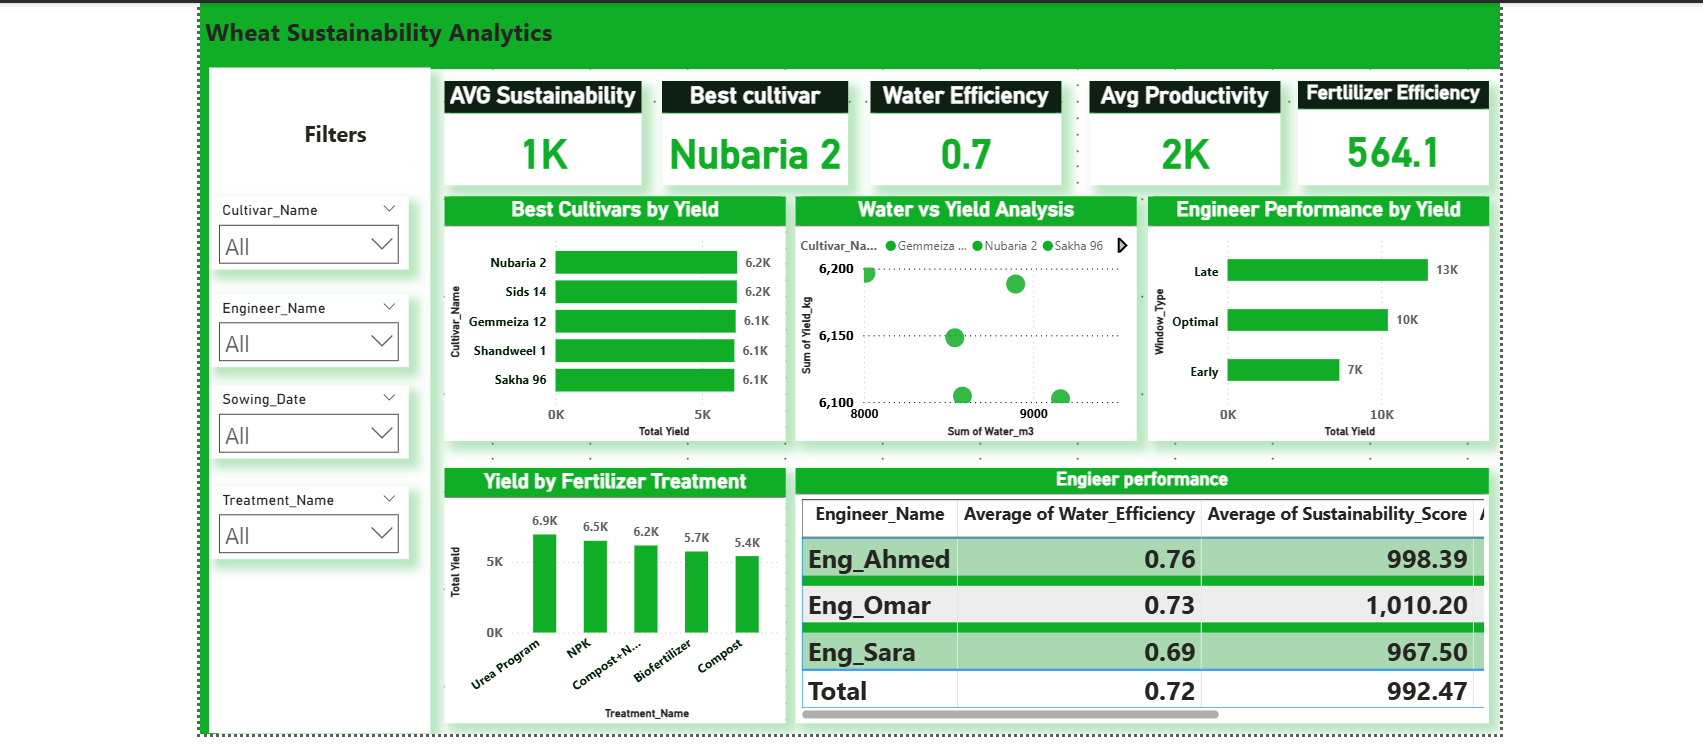

The dashboard page shown, as its layout file describes it:
{"tool":"powerbi","page":{"name":"Page 1","canvas":[1280,720],"ordinal":0},"visuals":[{"type":"shape","box":[0,64.6,18.2,656],"z":1000},{"type":"shape","box":[0,0,1281,65.1],"z":2000},{"type":"textbox","box":[0,0,454.3,63.6],"z":3000},{"type":"shape","box":[9.1,63.6,218,655.7],"z":4000},{"type":"shape","box":[41.4,102.7,167.3,61.3],"z":5000},{"type":"textbox","box":[56.3,107.7,154.1,43.1],"z":6000},{"type":"slicer","fields":{"Values":["dim_cultivar1.Cultivar_Name"]},"box":[9.4,190.9,196.5,71.8],"z":7000},{"type":"slicer","fields":{"Values":["dim_engineer1.Engineer_Name"]},"box":[9.4,287.2,196.5,71.8],"z":8000},{"type":"slicer","fields":{"Values":["dim_sowingdate1.Sowing_Date"]},"box":[9.4,376.1,196.5,71.8],"z":9000},{"type":"slicer","fields":{"Values":["dim_fertilizer1.Treatment_Name"]},"box":[9.4,476.2,196.5,71.8],"z":10000},{"type":"card","title":"AVG Sustainability","fields":{"Values":["fact_wheat_trials1.Avg Sustainability Score"]},"box":[240.8,77.2,193.8,103],"z":11000},{"type":"card","title":"Best cultivar","fields":{"Values":["fact_wheat_trials1.Best Cultivar"]},"box":[454.3,77.2,183.2,103],"z":12000},{"type":"card","title":"Water Efficiency","fields":{"Values":["fact_wheat_trials1.Water Efficiency"]},"box":[660.2,77.2,187.8,103],"z":13000},{"type":"card","title":"Avg Productivity","fields":{"Values":["fact_wheat_trials1.Avg Productivity"]},"box":[875.2,77.2,187.8,103],"z":14000},{"type":"clusteredBarChart","title":"Best Cultivars by Yield","fields":{"Category":["dim_cultivar1.Cultivar_Name"],"Y":["fact_wheat_trials1.Total Yield"]},"box":[240.8,190.8,336.2,240.8],"z":15000},{"type":"scatterChart","title":"Water vs Yield Analysis","fields":{"Y":["Sum(fact_wheat_trials1.Yield_kg)"],"X":["Sum(fact_wheat_trials1.Water_m3)"],"Series":["dim_cultivar1.Cultivar_Name"],"Size":["Sum(fact_wheat_trials1.Productivity)"]},"box":[586,190.8,336.2,240.8],"z":16000},{"type":"columnChart","title":" Yield by Fertilizer Treatment","fields":{"Y":["fact_wheat_trials1.Total Yield"],"Category":["dim_fertilizer1.Treatment_Name"]},"box":[240.8,457.3,336.2,251.4],"z":17000},{"type":"clusteredBarChart","title":" Engineer Performance by Yield","fields":{"Category":["dim_sowingdate1.Window_Type"],"Y":["fact_wheat_trials1.Total Yield"]},"box":[932.8,190.8,336.2,240.8],"z":18000},{"type":"card","title":"Water Efficiency","fields":{"Values":["Avg(fact_wheat_trials1.Fertilizer_Efficiency)"]},"box":[1081.1,77.2,187.8,103],"z":19000},{"type":"tableEx","title":"Engieer performance","fields":{"Values":["dim_engineer1.Engineer_Name","Avg(fact_wheat_trials1.Water_Efficiency)","Avg(fact_wheat_trials1.Sustainability_Score)","Avg(fact_wheat_trials1.Yield_kg)","Avg(fact_wheat_trials1.Fertilizer_Efficiency)"]},"box":[586,457.3,682.9,251.4],"z":19001}]}

Visuals, with their boxes in screenshot pixels (x1, y1, x2, y2):
shape: left=191, top=66, right=209, bottom=740
shape: left=191, top=0, right=1506, bottom=67
textbox: left=191, top=0, right=657, bottom=65
shape: left=200, top=65, right=424, bottom=738
shape: left=233, top=105, right=405, bottom=168
textbox: left=248, top=111, right=407, bottom=155
slicer - dim_cultivar1.Cultivar_Name: left=200, top=196, right=402, bottom=270
slicer - dim_engineer1.Engineer_Name: left=200, top=295, right=402, bottom=369
slicer - dim_sowingdate1.Sowing_Date: left=200, top=386, right=402, bottom=460
slicer - dim_fertilizer1.Treatment_Name: left=200, top=489, right=402, bottom=563
"AVG Sustainability" card: left=438, top=79, right=637, bottom=185
"Best cultivar" card: left=657, top=79, right=845, bottom=185
"Water Efficiency" card: left=868, top=79, right=1061, bottom=185
"Avg Productivity" card: left=1089, top=79, right=1282, bottom=185
"Best Cultivars by Yield" clusteredBarChart: left=438, top=196, right=783, bottom=443
"Water vs Yield Analysis" scatterChart: left=792, top=196, right=1137, bottom=443
" Yield by Fertilizer Treatment" columnChart: left=438, top=469, right=783, bottom=728
" Engineer Performance by Yield" clusteredBarChart: left=1148, top=196, right=1493, bottom=443
"Water Efficiency" card: left=1301, top=79, right=1493, bottom=185
"Engieer performance" tableEx: left=792, top=469, right=1493, bottom=728
